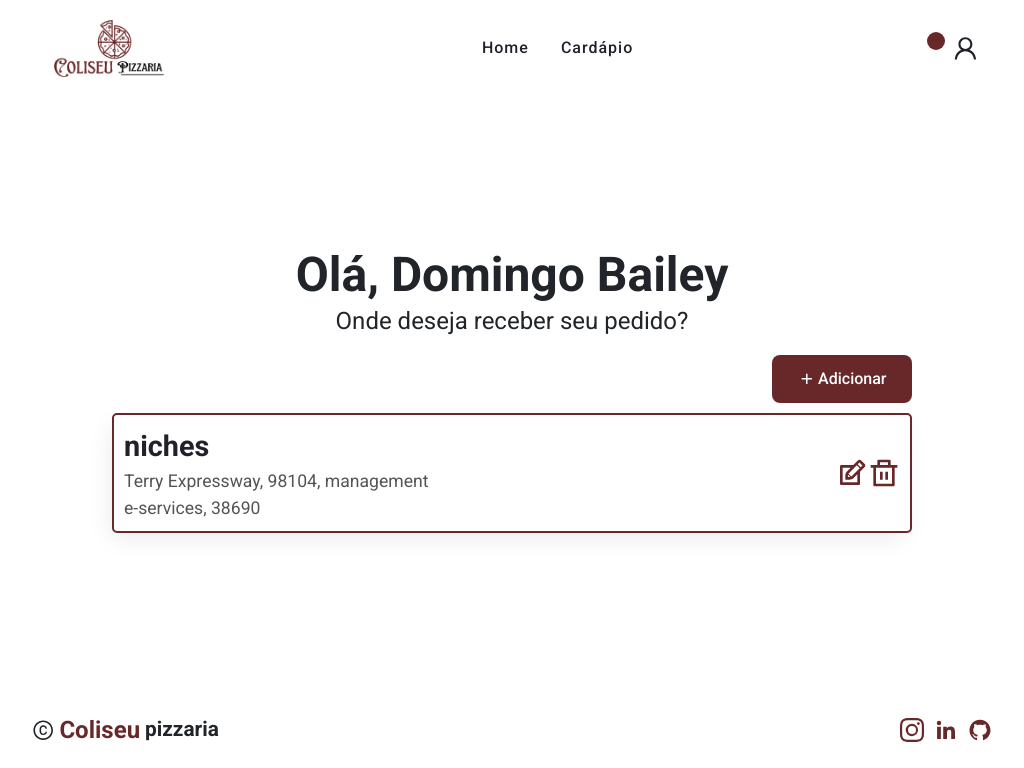
it: Profile › edit › should remove edit address modal if click button close
Expected: the element with test id "address" is shown, [112,413,912,533]
Click the icon with test id "icon-edit" at (852, 473), box [836,457,868,489]
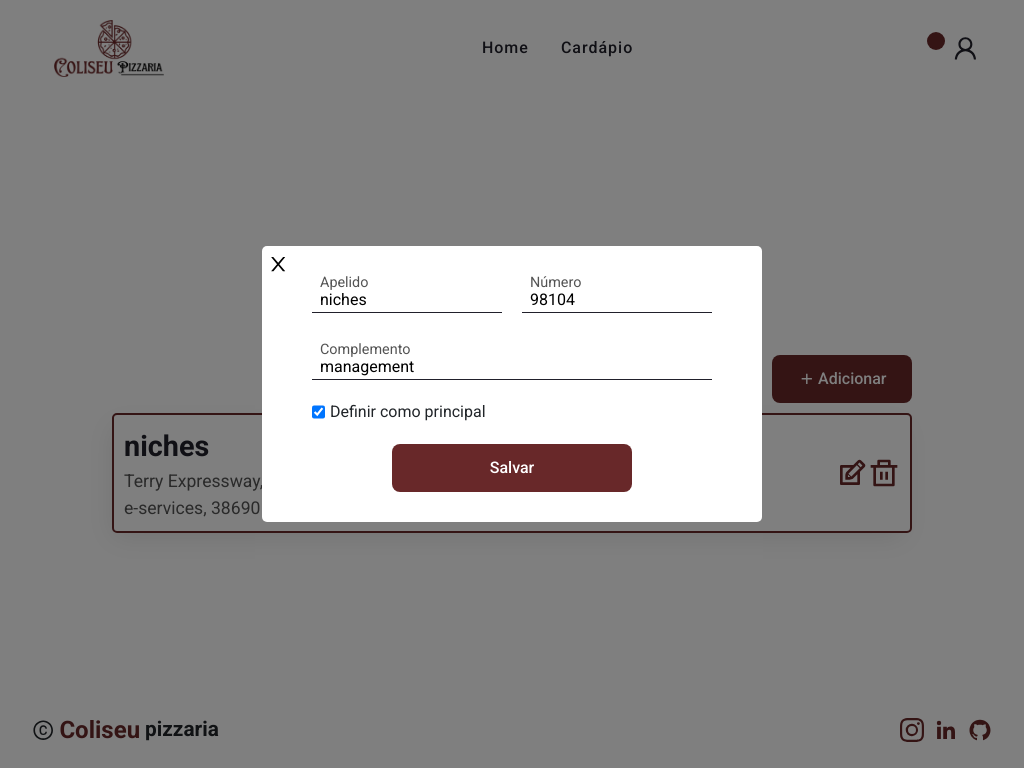
Click the button with test id "close-modal" at (278, 263), box [267,251,289,275]
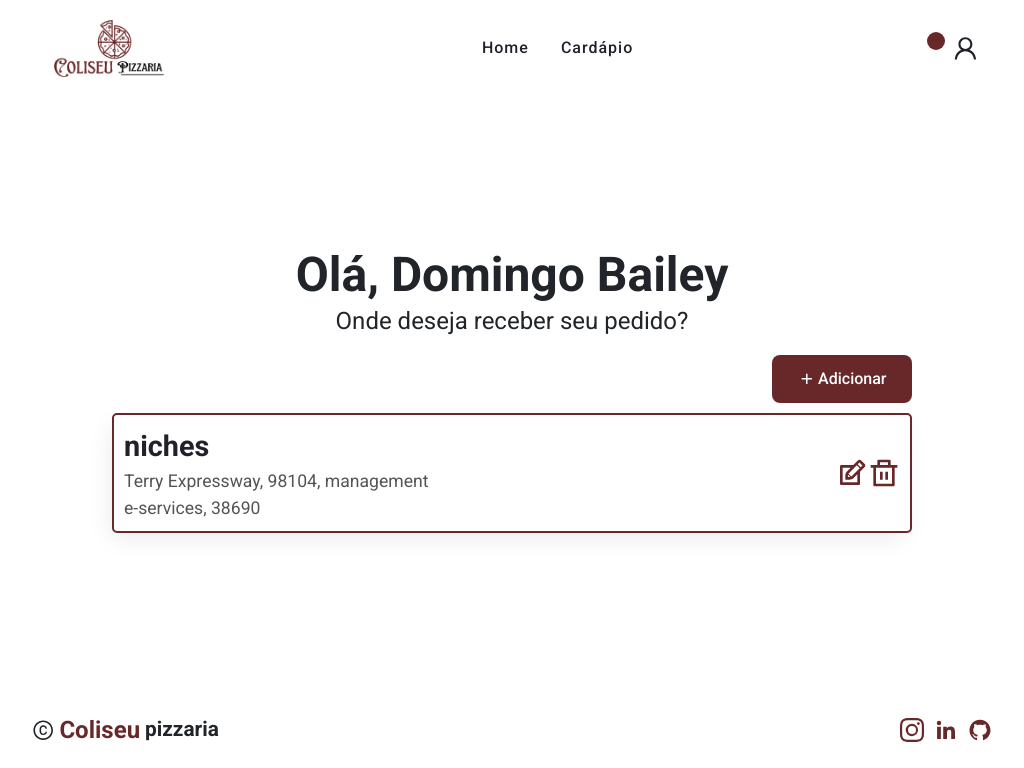
Expected: the form with test id "edit-form" is gone
Expected: the button "Salvar" is gone
